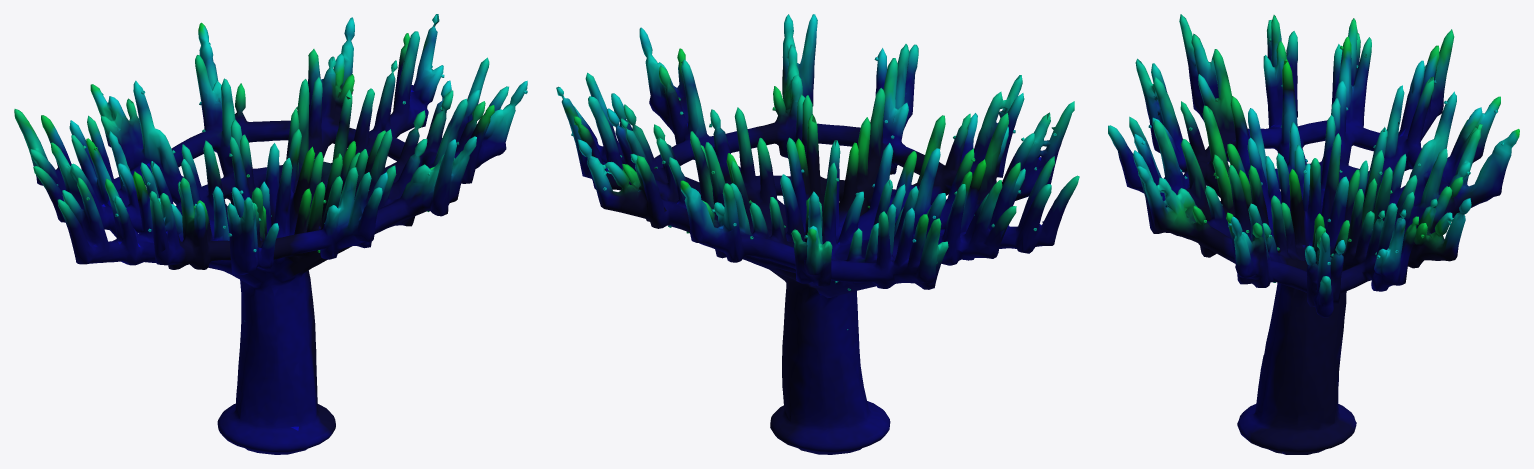
File: reef-acropora-tabular-plate.glb
3 views of the same model, side by side, from view 1: azimuth 30°, elevation 25°; view 2: azimuth 150°, elevation 25°; view 3: azimuth 270°, elevation 25° (orthographic).
Visible parts, largest first — view 1: Reef_Acropora_Tabular_Plate; view 2: Reef_Acropora_Tabular_Plate; view 3: Reef_Acropora_Tabular_Plate.
Boxes of the visible parts, x1,y1,x2,y2 form: Reef_Acropora_Tabular_Plate: [14, 14, 527, 454]; Reef_Acropora_Tabular_Plate: [556, 14, 1079, 454]; Reef_Acropora_Tabular_Plate: [1108, 14, 1519, 454].
Size of the model in its own units: 0.1989 by 0.1327 by 0.1478.
1 material, 1 textured.
